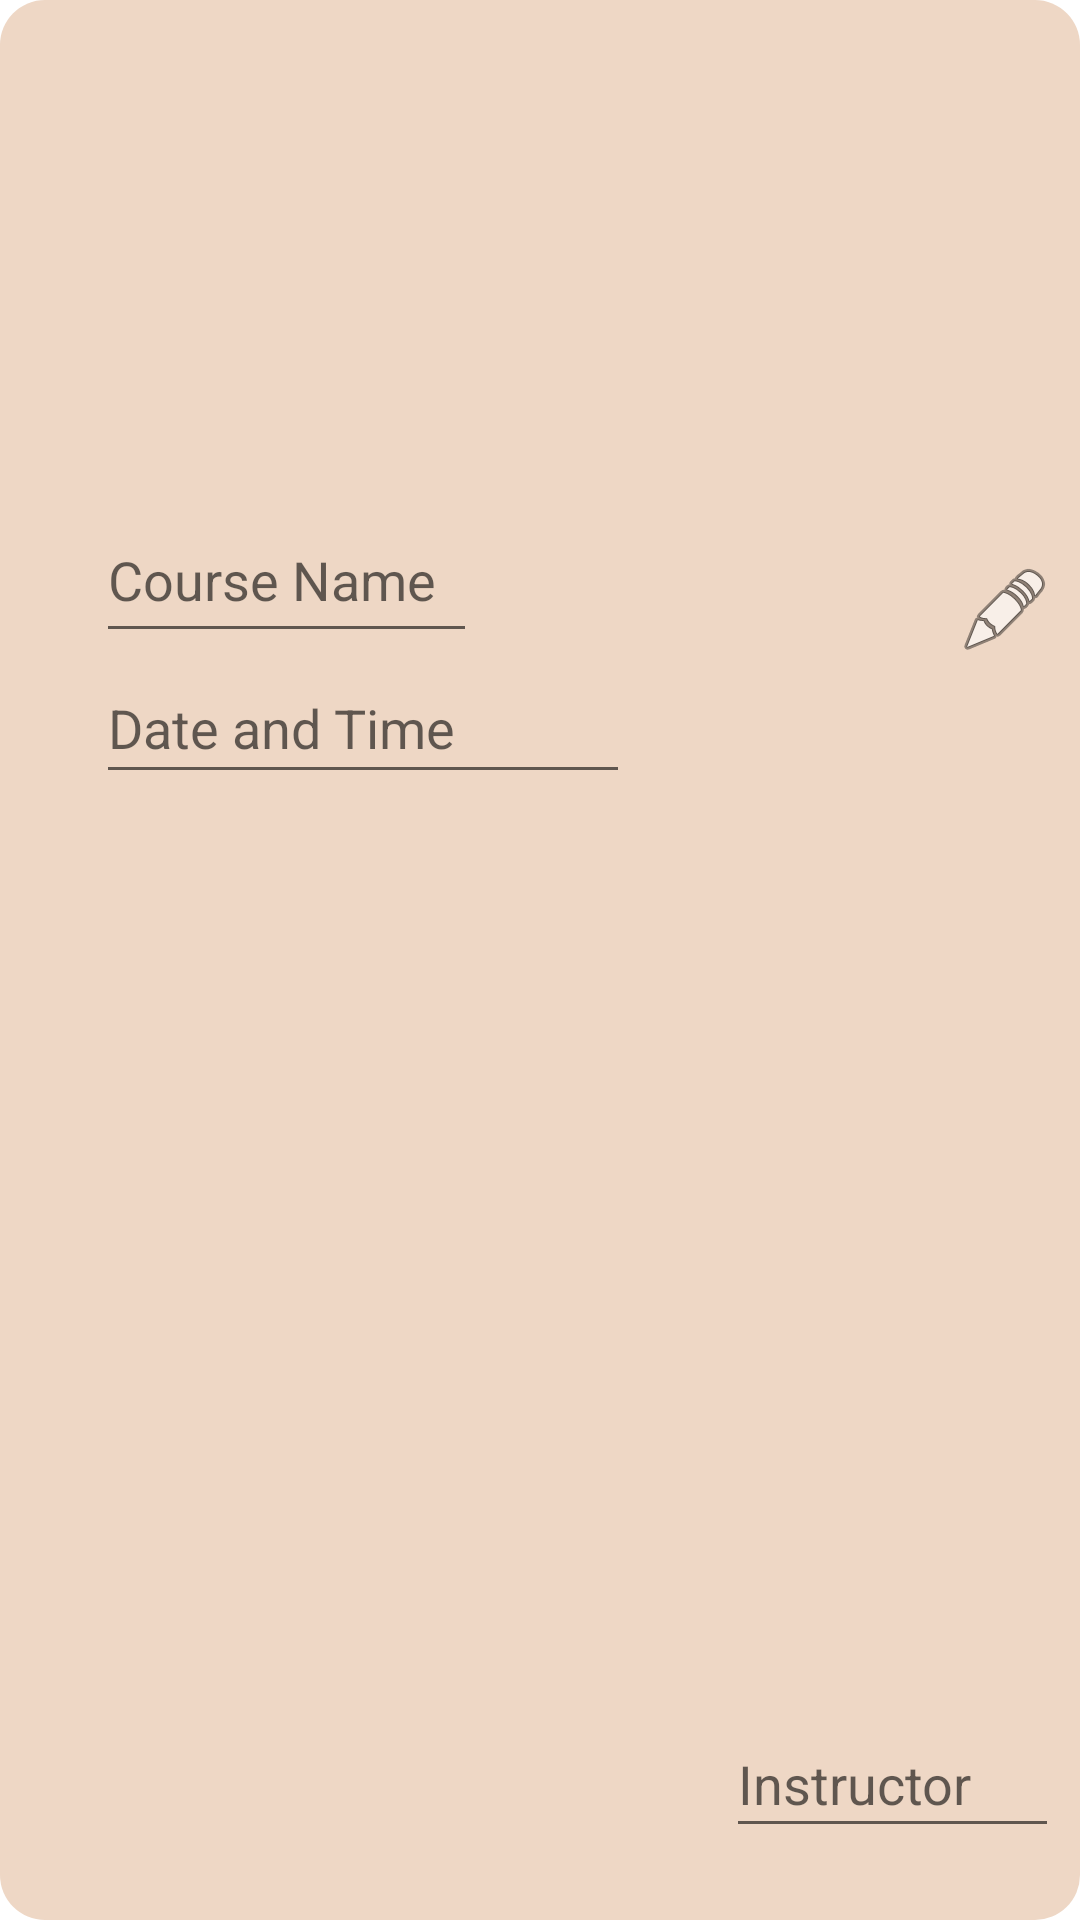

Screen size 1080*1920. Icon name, then its center in pixels as (x=x, y=y):
edit: (x=1004, y=609)
